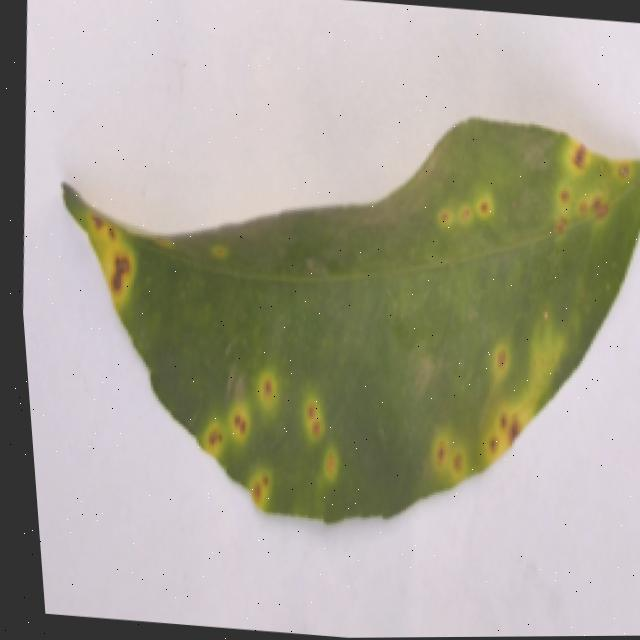canker: (63, 118, 640, 519), (170, 362, 373, 542), (397, 320, 585, 509), (409, 108, 640, 255), (64, 204, 153, 308)
